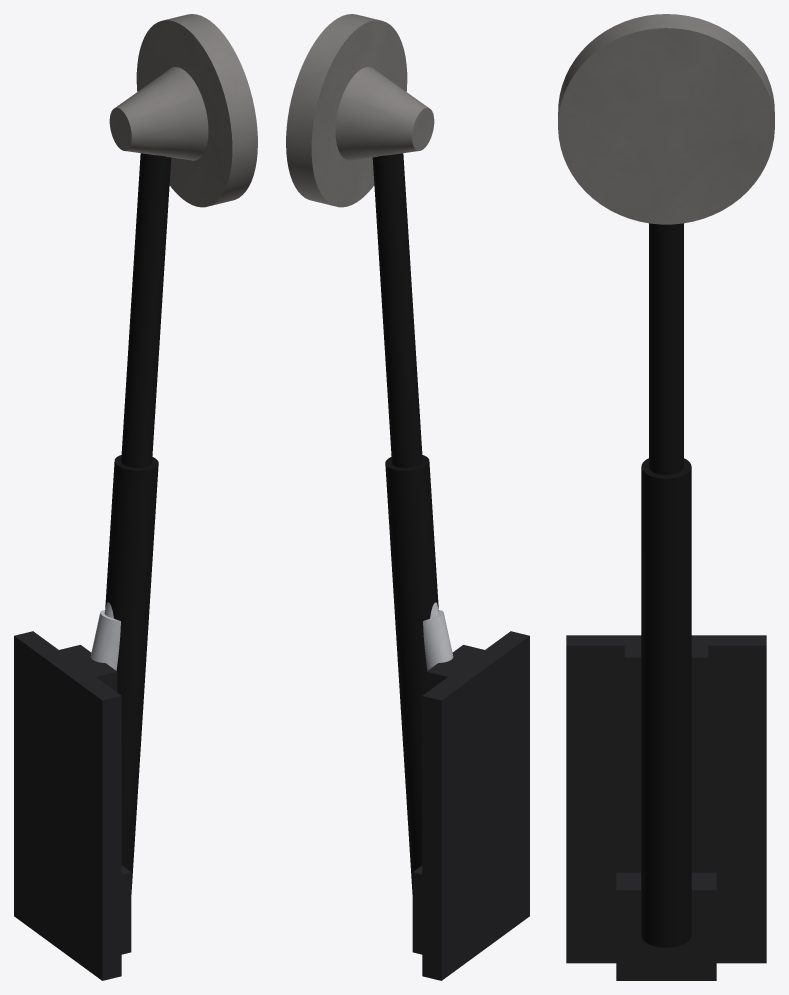
The model's file is stage11_landing_leg_l.glb.
3 renders of one model, left to right at view 1: azimuth 30°, elevation 25°; view 2: azimuth 150°, elevation 25°; view 3: azimuth 270°, elevation 25°, orthographic. The views are drawn at different scales.
Visible parts, largest first — view 1: bracket, primary_strut, footpad, telescoping_strut; view 2: bracket, primary_strut, footpad, telescoping_strut; view 3: bracket, footpad, primary_strut.
Boxes of the visible parts, box(x1,y1,x2,y2) form: bracket: box(14, 631, 131, 980); primary_strut: box(105, 153, 171, 894); footpad: box(109, 14, 257, 207); telescoping_strut: box(90, 602, 120, 670); bracket: box(412, 631, 529, 980); primary_strut: box(372, 153, 438, 894); footpad: box(286, 14, 434, 207); telescoping_strut: box(423, 602, 453, 670); bracket: box(566, 635, 766, 980); footpad: box(558, 14, 774, 224); primary_strut: box(641, 223, 691, 947).
Size of the model in its own units: 0.8925 by 5 by 0.9747.
Materials: 4 (2 with a texture image).
